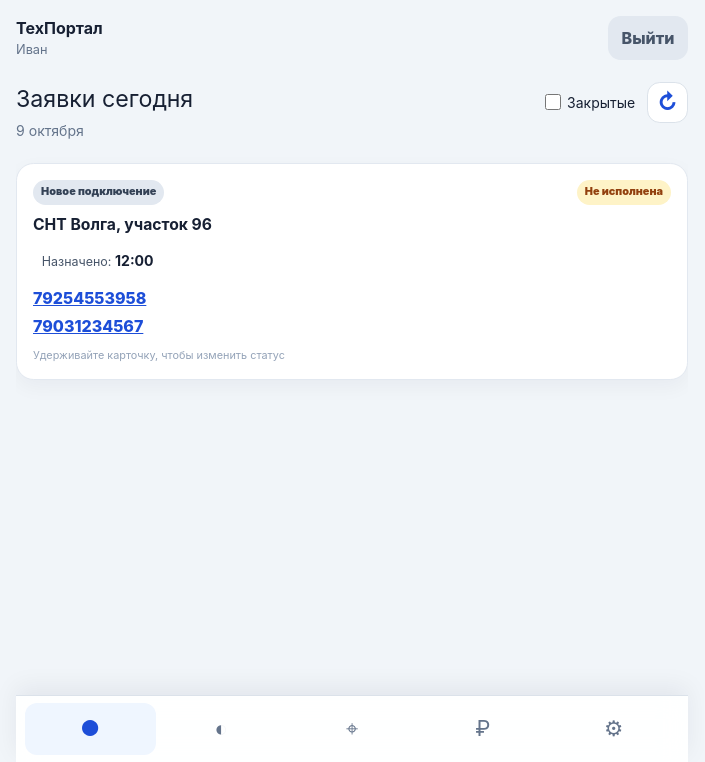
Scenario: Заявки › показывает карточку и открывает подробности коротким нажатием
The image size is (705, 762).
Expected: the text "Назначено: 12:00" is shown, [33,245,162,277]
Expected: the button "79254553958" is shown, [33,286,146,310]
Click the button with aria-label "Заявка СНТ Волга, участок 96".
click(99, 192)  # box [16,163,688,380]
(page scrolled)
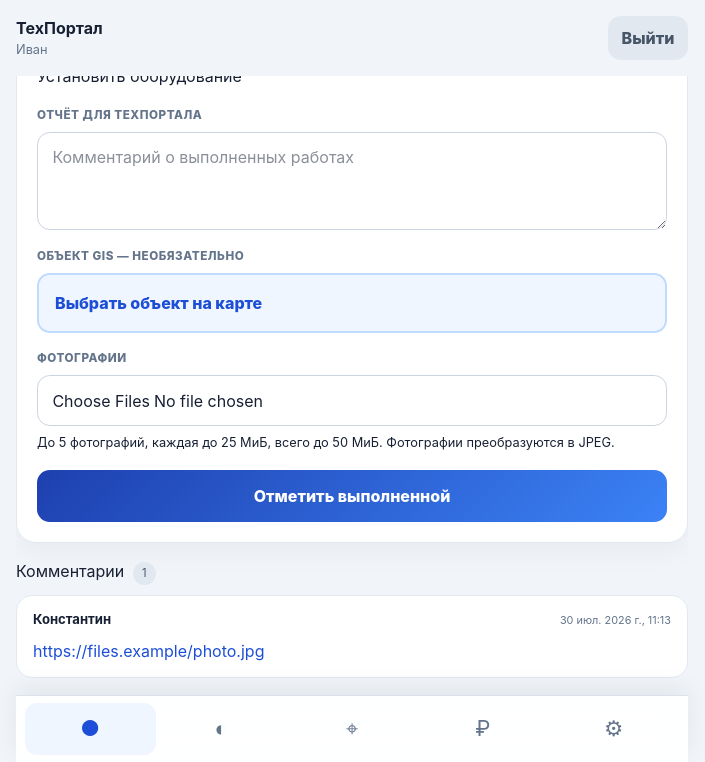
Expected: the text "Константин" is shown, [33,610,111,630]
Expected: the link "https://files.example/photo.jpg" is shown, [33,641,264,661]
